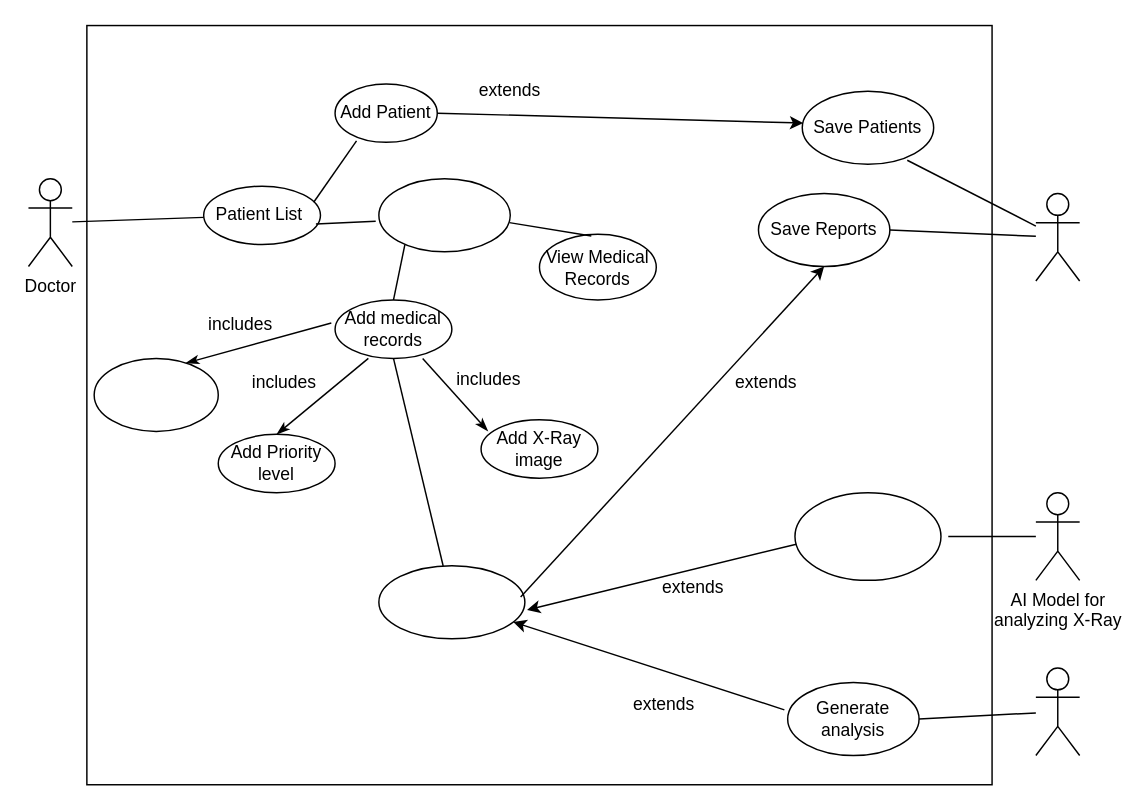
The diagram is 1146 pixels wide and 812 high, and some of its shapes have lost their labels. The centre of each missing label's shape, as x and y in pixels:
"Add prescription" goes at [155,394].
"Generate prediction" goes at [867,535].
"Generate reports" goes at [451,601].
"Open AI" goes at [1057,711].
"Storage" goes at [1057,236].
"View Patients" goes at [443,214].
